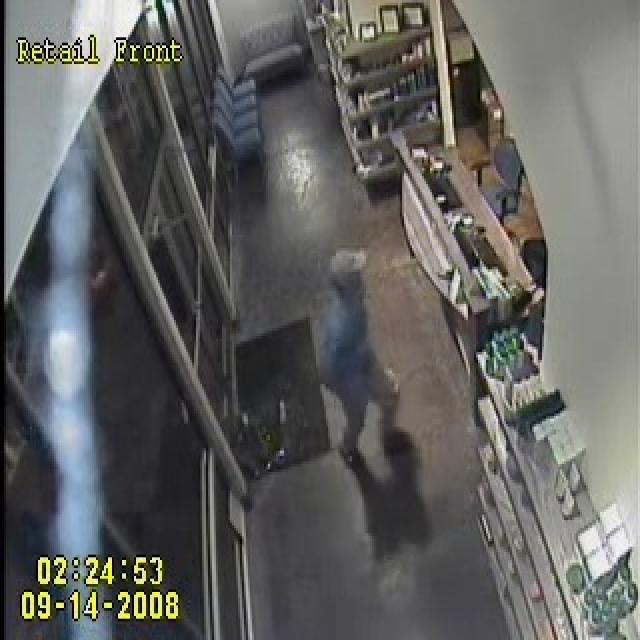thief: (315, 251, 383, 380)
